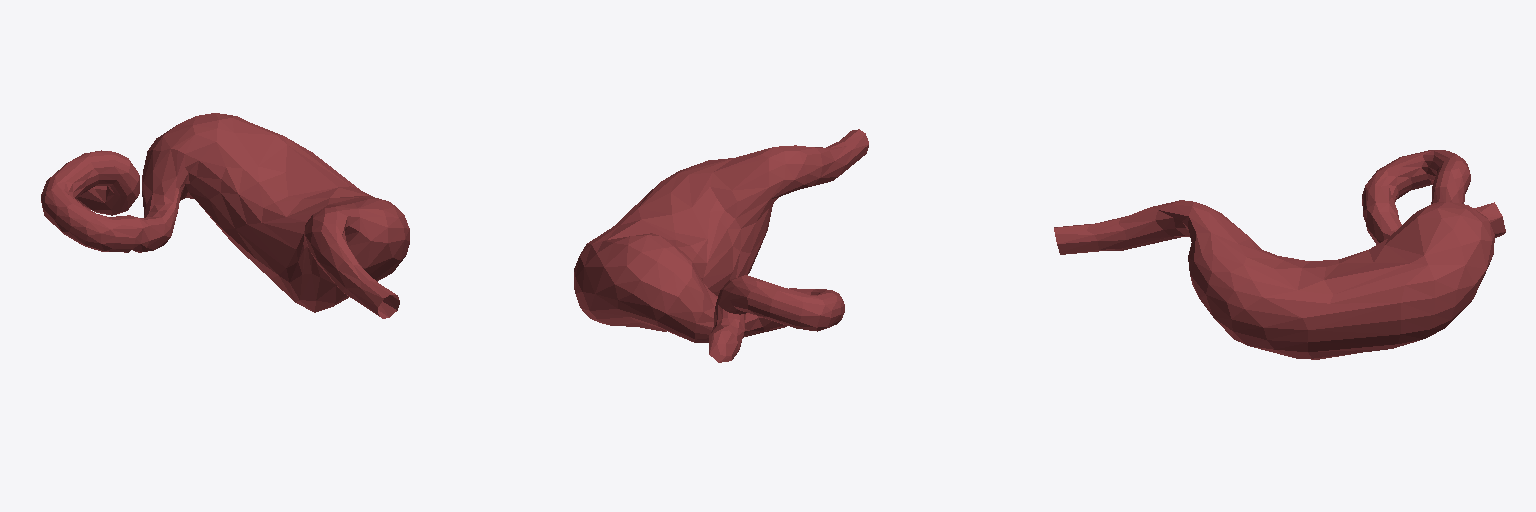
File: duodenal_canine.obj
The picture shows the model from 3 angles: view 1: azimuth 30°, elevation 25°; view 2: azimuth 150°, elevation 25°; view 3: azimuth 270°, elevation 25°; orthographic projection.
Parts seen in each view (by area): view 1: duodenal_canine_tube.044; view 2: duodenal_canine_tube.044; view 3: duodenal_canine_tube.044.
Part boxes in pixels (left/top/right/bottom): duodenal_canine_tube.044: left=41, top=113, right=409, bottom=318; duodenal_canine_tube.044: left=574, top=129, right=868, bottom=362; duodenal_canine_tube.044: left=1054, top=150, right=1505, bottom=359.
Bounding box in the file's own units: 13.05 × 6.15 × 18.49.